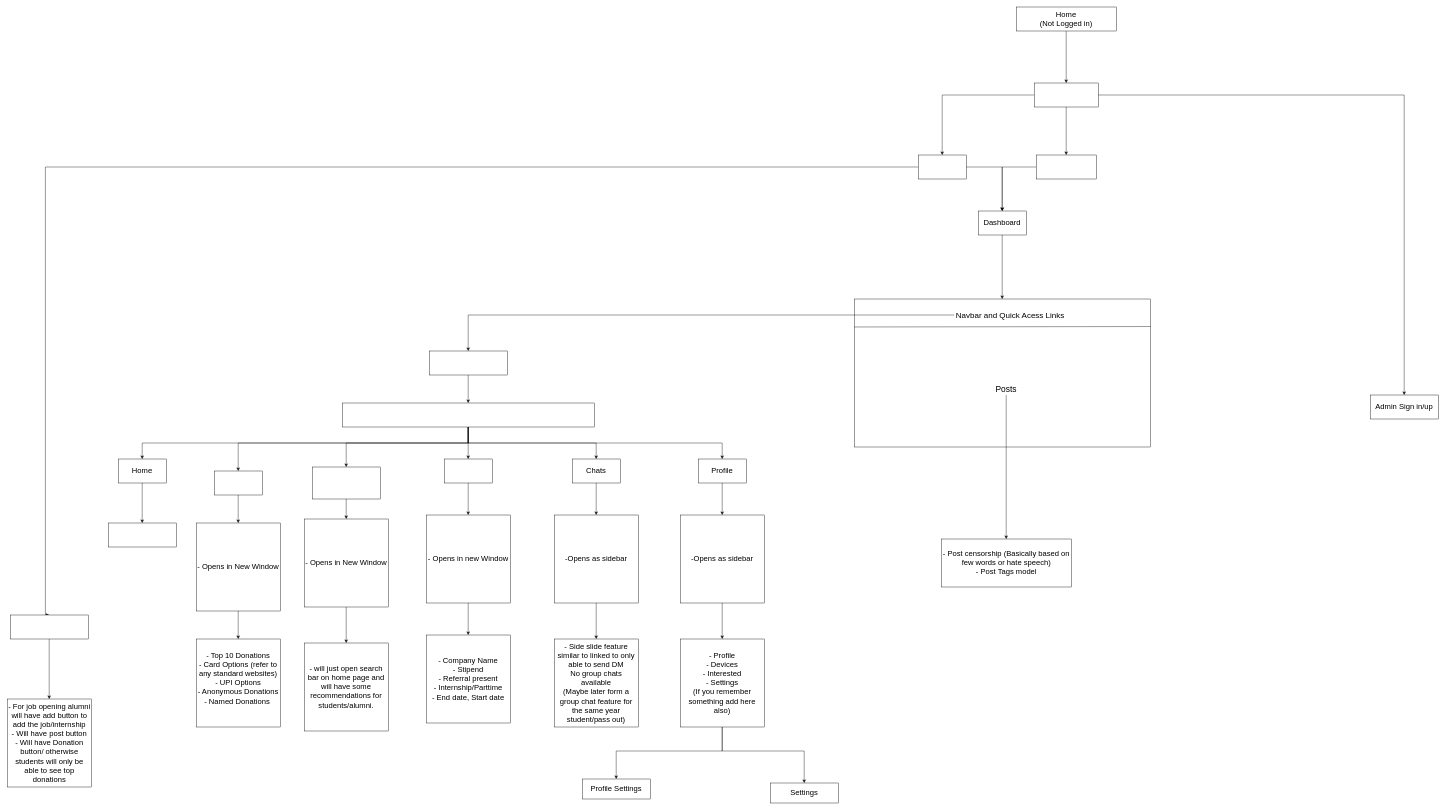
This 1445x810 diagram has some shape labels left out. Each missing label, with the box of its shape:
Alumni Sign in/up: (918, 155, 966, 179)
Donations: (214, 471, 262, 495)
Home, Donation, Job Openings, Chats, Profile: (342, 403, 594, 427)
Job Openings: (444, 459, 492, 483)
Quick Access Links: (429, 351, 507, 375)
Returns to the home post page: (108, 523, 176, 547)
Search (Basically for networking): (312, 467, 380, 499)
Sign in Options: (1034, 83, 1098, 107)
Special Privileges for Alumni: (10, 615, 88, 639)
Student Sign in/up: (1036, 155, 1096, 179)
